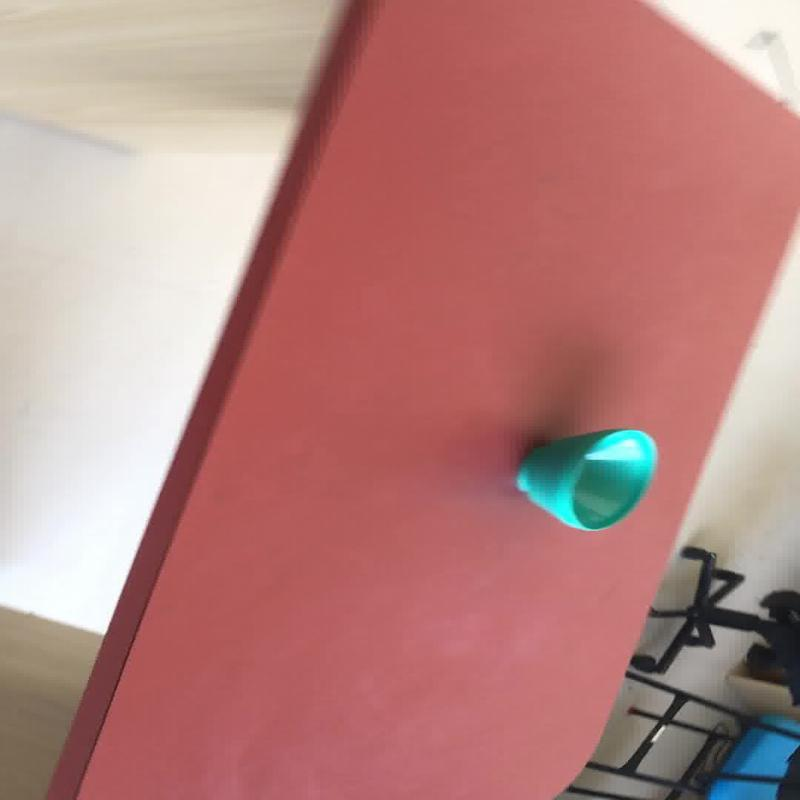bowl: (39, 0, 797, 798), (512, 427, 657, 531)
